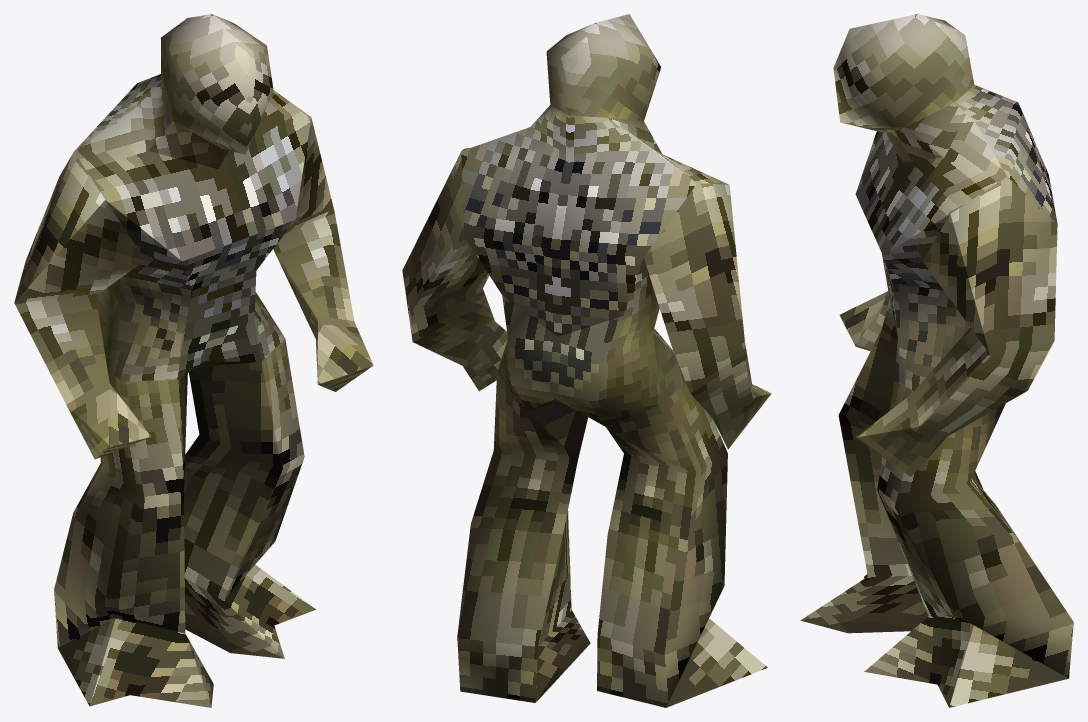
The model's file is promethean_small_base.glb.
3 views of the same model, side by side, from view 1: azimuth 30°, elevation 25°; view 2: azimuth 150°, elevation 25°; view 3: azimuth 270°, elevation 25° (orthographic).
Parts seen in each view (by area): view 1: MeshRoot; view 2: MeshRoot; view 3: MeshRoot.
Boxes of the visible parts, x1=… form: MeshRoot: x1=14, y1=14, x2=373, y2=707; MeshRoot: x1=402, y1=14, x2=771, y2=707; MeshRoot: x1=800, y1=14, x2=1073, y2=707.
Bounding box in the file's own units: 0.8828 × 1.61 × 0.6279.
Materials: 2 (2 with a texture image).
